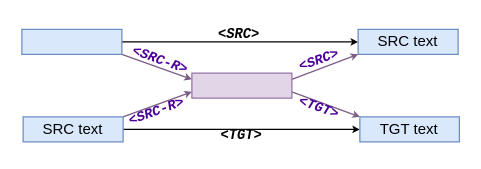
Some shapes in this 481 by 169 pixel diagram are drawn without their labels. Here are the shapes that lost their labels. From the top down, the centre of each, then its label:
the point at 71,41: SRC audio
the point at 241,85: SRC-R text
